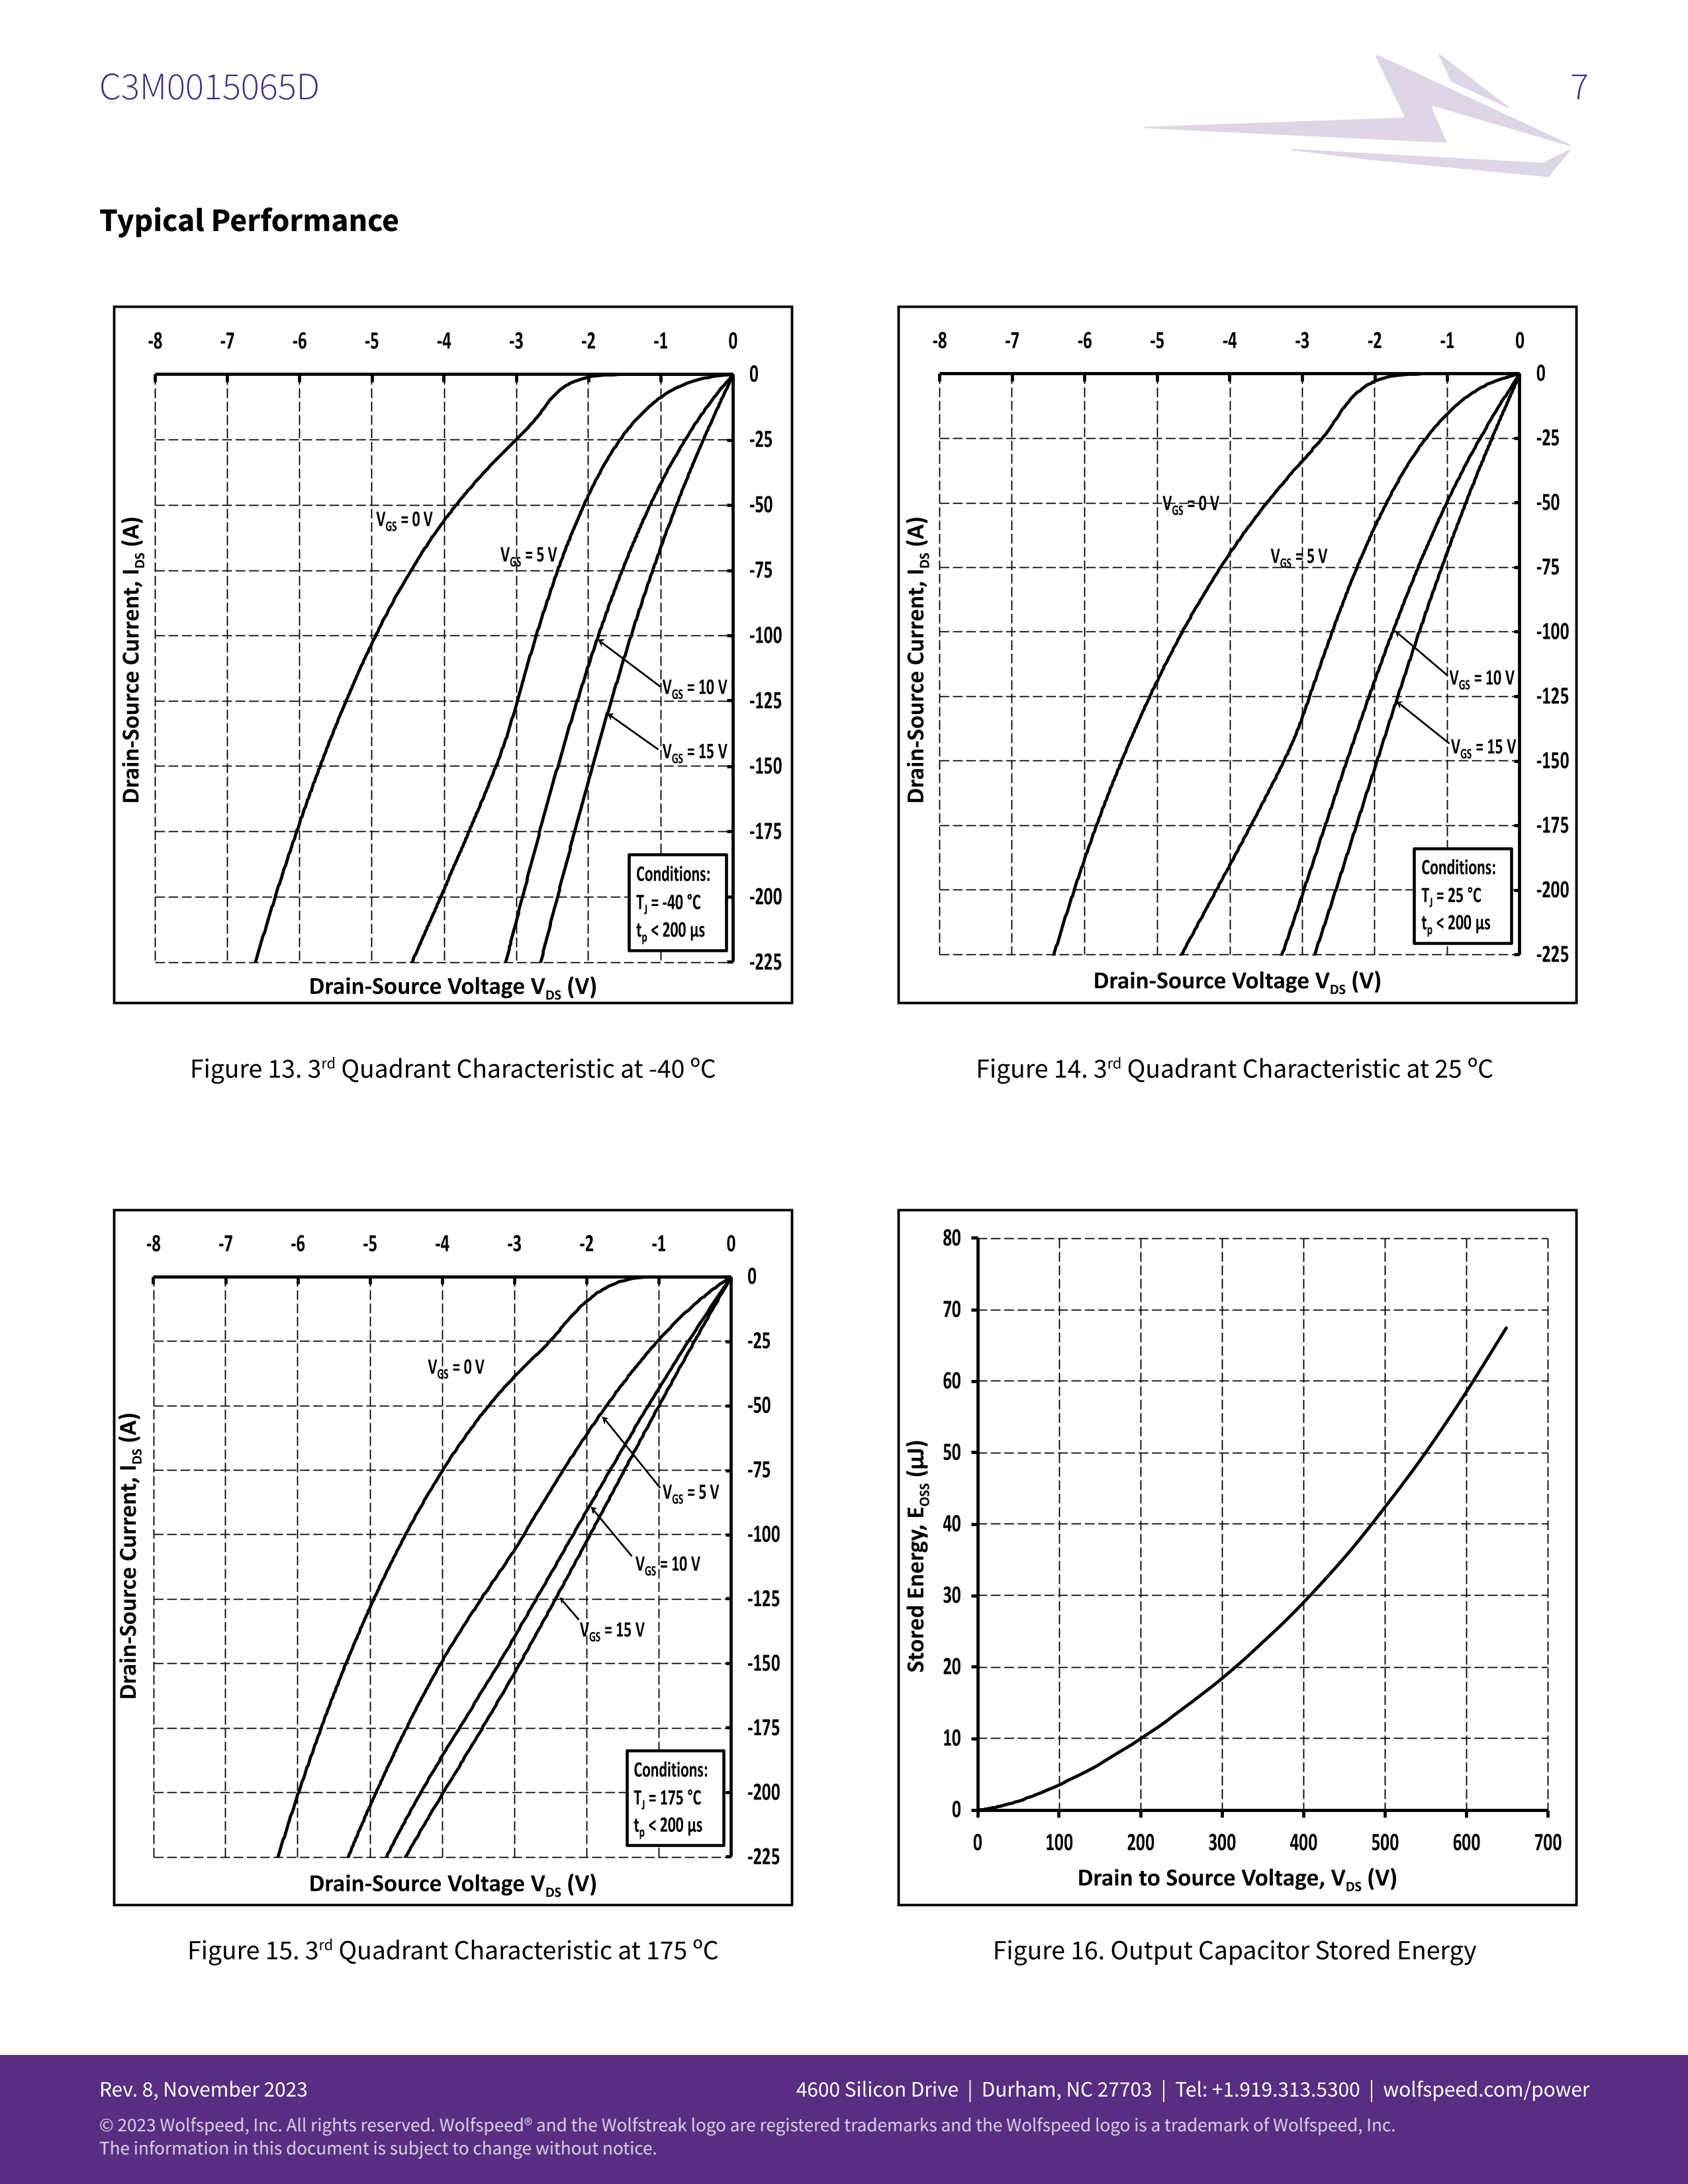diagram: (899, 305, 1596, 1129), (112, 305, 805, 1126), (899, 1207, 1592, 1989), (113, 1209, 814, 1982)
